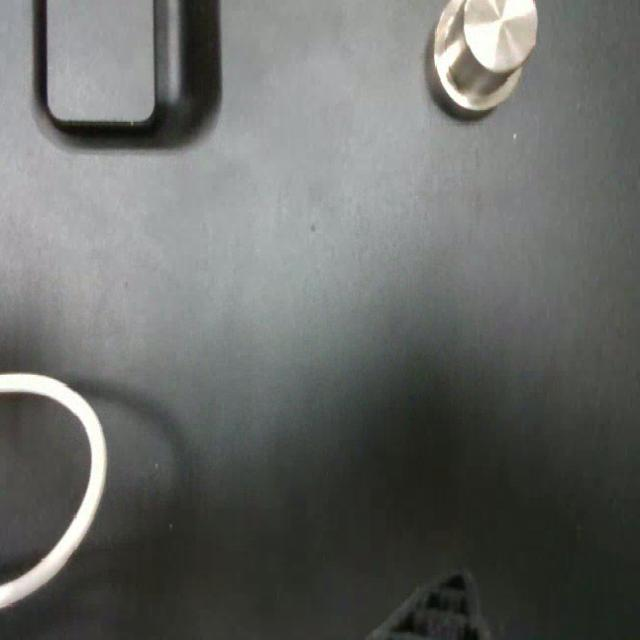sensor: (432, 0, 536, 114)
